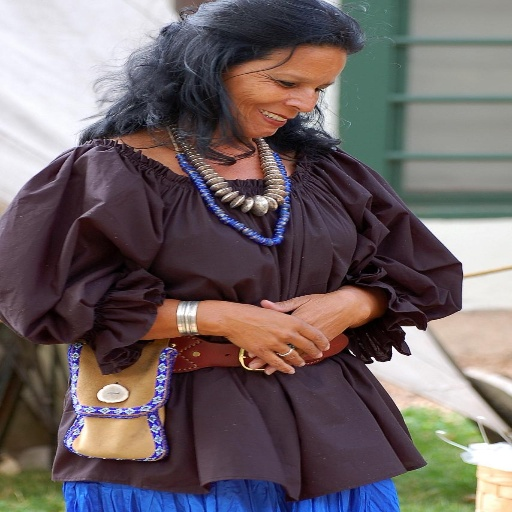hand: (248, 292, 360, 376)
